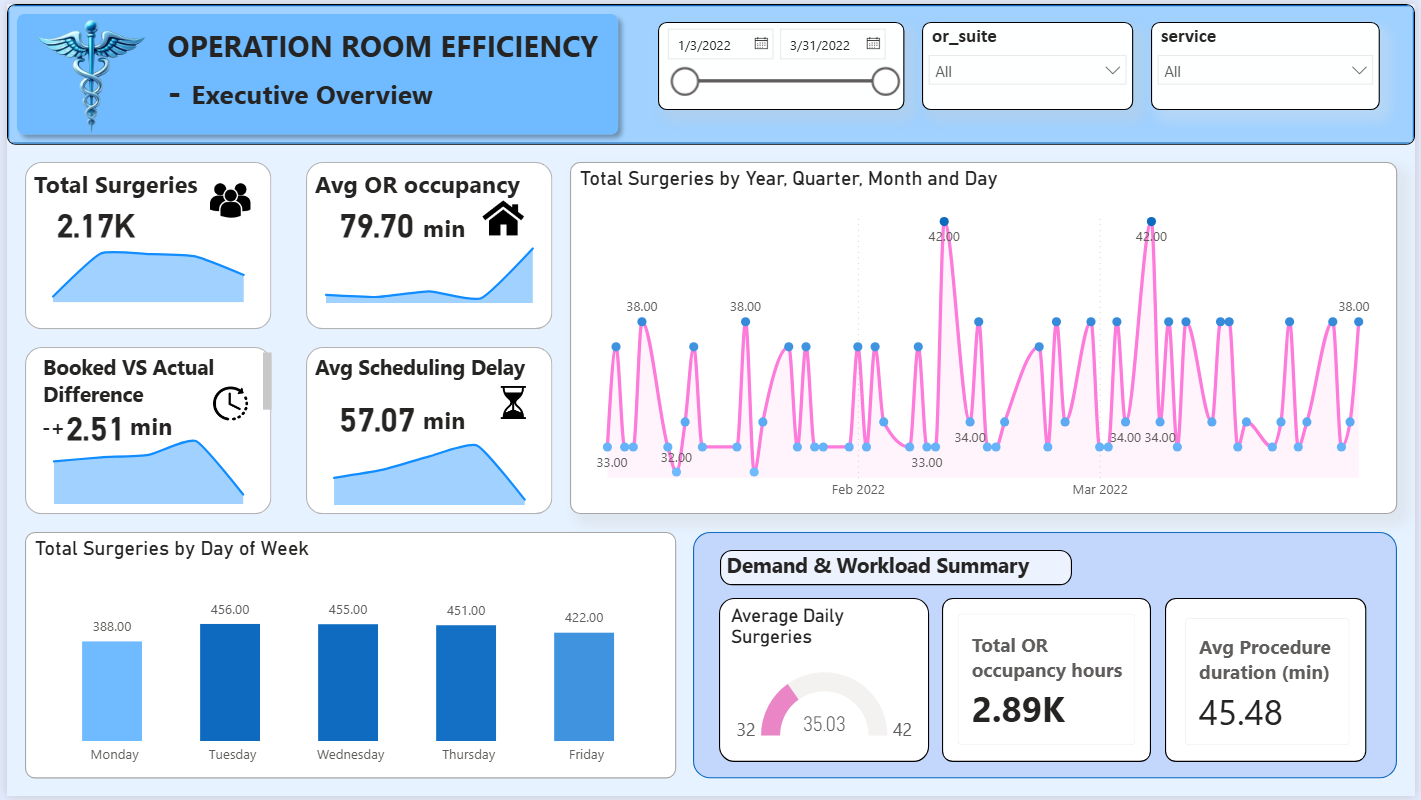

This screenshot's page, from the dashboard's own definition file:
{"tool":"powerbi","page":{"name":"Executive Overview ","canvas":[1280,720],"ordinal":0},"visuals":[{"type":"shape","box":[0,0,1280,128],"z":0,"group":"g9"},{"type":"shape","box":[624,480,640,224],"z":0},{"type":"textbox","box":[648,496,320,32],"z":1000},{"type":"slicer","fields":{"Values":["or_utilization_v2.surgery_date"]},"box":[592,16,224,80],"z":2000,"group":"g9"},{"type":"gauge","title":"Average Daily Surgeries","fields":{"Y":["or_utilization_v2.Average Daily Surgeries"],"MaxValue":["or_utilization_v2.Maximum Daily surgeries"],"MinValue":["or_utilization_v2.Minimum Daily Surgeries"]},"box":[647.1,540,191.4,148.6],"z":2000},{"type":"slicer","fields":{"Values":["or_utilization_v2.or_suite"]},"box":[832,16,192,80],"z":3000,"group":"g9"},{"type":"cardVisual","fields":{"Data":["or_utilization_v2.Total OR occupancy hours"]},"box":[850,540,190,148.6],"z":3000},{"type":"slicer","fields":{"Values":["or_utilization_v2.service"]},"box":[1040,16,208,80],"z":4000,"group":"g9"},{"type":"cardVisual","title":"lklk","fields":{"Data":["or_utilization_v2.Avg Procedure duration (min)"]},"box":[1052.9,540,182.9,148.6],"z":4000},{"type":"shape","box":[0,0,564.6,127.7],"z":5000,"group":"g9"},{"type":"lineChart","fields":{"Y":["or_utilization_v2.Total Surgeries"],"Category":["or_utilization_v2.surgery_date.Variation.Date Hierarchy.Year","or_utilization_v2.surgery_date.Variation.Date Hierarchy.Quarter","or_utilization_v2.surgery_date.Variation.Date Hierarchy.Month","or_utilization_v2.surgery_date.Variation.Date Hierarchy.Day"]},"box":[512,144,752,320],"z":5000},{"type":"clusteredColumnChart","fields":{"Y":["or_utilization_v2.Total Surgeries"],"Category":["or_utilization_v2.Day of Week"]},"box":[16,480,592,224],"z":6000},{"type":"textbox","box":[140.6,8,416,96],"z":6500,"group":"g9"},{"type":"group","id":"g1","title":"Group 5","box":[272,312,224,144],"z":7000},{"type":"group","id":"g2","title":"Group 6","box":[16,144,224,152],"z":8000},{"type":"group","id":"g3","title":"Group 7","box":[272,144,224,152],"z":9000},{"type":"group","id":"g4","title":"Group 8","box":[16,312,224,152],"z":10000},{"type":"group","id":"g5","title":"Group 9","box":[0,0,1280,128],"z":11000},{"type":"group","id":"g6","title":"Group 1","box":[16,144,224,152],"z":11000,"group":"g2"},{"type":"group","id":"g7","title":"Group 1","box":[16,312,224,152],"z":11000,"group":"g4"},{"type":"group","id":"g8","title":"Group 1","box":[272,144,224,152],"z":12000,"group":"g3"},{"type":"textbox","box":[377.8,188.9,52.2,31.1],"z":12000},{"type":"group","id":"g9","title":"Group 4","box":[0,0,1280,128],"z":12001,"group":"g5"},{"type":"image","box":[186.8,343.7,31.7,39.2],"z":13000,"group":"g4"},{"type":"textbox","box":[112.2,368.9,52.2,31.1],"z":13000},{"type":"group","id":"g10","title":"Group 1","box":[272,312,224,144],"z":14000,"group":"g1"},{"type":"textbox","box":[377.8,363.3,52.2,31.1],"z":14000},{"type":"group","id":"g11","title":"Group 3","box":[272,312,224,152],"z":14002,"group":"g10"},{"type":"textbox","box":[32.2,372.2,26.7,31.1],"z":15000},{"type":"shape","box":[16,144,224,152],"z":16000,"group":"g6"},{"type":"shape","box":[272,144,224,152],"z":16000,"group":"g8"},{"type":"image","box":[184.3,159.8,36.7,39.2],"z":16000,"group":"g2"},{"type":"shape","box":[16,312,224,152],"z":16000,"group":"g12"},{"type":"shape","box":[272,312,224,152],"z":16000,"group":"g11"},{"type":"group","id":"g12","title":"Group 2","box":[16,312,224,152],"z":16002,"group":"g7"},{"type":"image","box":[12.6,0,128,128],"z":17000,"group":"g9"},{"type":"image","box":[429.5,175.7,44.2,38.3],"z":17000,"group":"g3"},{"type":"card","fields":{"Values":["or_utilization_v2.Total Surgeries"]},"box":[24,176,112,48],"z":17000,"group":"g6"},{"type":"card","fields":{"Values":["or_utilization_v2.Avg OR Occupancy"]},"box":[280,176,112,48],"z":17000,"group":"g8"},{"type":"card","fields":{"Values":["or_utilization_v2.Avg Scheduling Delay"]},"box":[280,352,112,48],"z":17000,"group":"g11"},{"type":"card","fields":{"Values":["or_utilization_v2.Booked vs Actual Variance"]},"box":[24,360,112,48],"z":17000,"group":"g12"},{"type":"image","box":[437,347.8,45.8,30],"z":17002,"group":"g1"},{"type":"textbox","box":[24,144,176,40],"z":18000,"group":"g6"},{"type":"textbox","box":[280,144,208,48],"z":18000,"group":"g8"},{"type":"textbox","box":[32,312,208,64],"z":18000,"group":"g12"},{"type":"textbox","box":[280,312,208,40],"z":18000,"group":"g11"},{"type":"lineChart","fields":{"Y":["or_utilization_v2.Avg OR Occupancy"],"Category":["or_utilization_v2.Day of Week Number"]},"box":[280,200,208,72],"z":19000,"group":"g8"},{"type":"lineChart","fields":{"Y":["or_utilization_v2.Total Surgeries"],"Category":["or_utilization_v2.Day of Week"]},"box":[24,216,208,56],"z":19000,"group":"g6"},{"type":"lineChart","fields":{"Category":["or_utilization_v2.Day of Week Number"],"Y":["or_utilization_v2.Booked vs Actual Variance"]},"box":[32,384,192,72],"z":19000,"group":"g12"},{"type":"lineChart","fields":{"Y":["or_utilization_v2.Avg Scheduling Delay"],"Category":["or_utilization_v2.Day of Week"]},"box":[280,384,208,72],"z":19000,"group":"g11"}]}

Visuals, with their boxes in screenshot pixels (x1, y1, x2, y2), scaled from the page's 1280x720 canvas onto the 1421x800 screenshot:
shape: {"left": 0, "top": 0, "right": 1420, "bottom": 142}
shape: {"left": 693, "top": 533, "right": 1403, "bottom": 782}
textbox: {"left": 719, "top": 551, "right": 1075, "bottom": 587}
slicer - or_utilization_v2.surgery_date: {"left": 657, "top": 18, "right": 906, "bottom": 107}
"Average Daily Surgeries" gauge: {"left": 718, "top": 600, "right": 931, "bottom": 765}
slicer - or_utilization_v2.or_suite: {"left": 924, "top": 18, "right": 1137, "bottom": 107}
cardVisual - or_utilization_v2.Total OR occupancy hours: {"left": 944, "top": 600, "right": 1155, "bottom": 765}
slicer - or_utilization_v2.service: {"left": 1155, "top": 18, "right": 1385, "bottom": 107}
"lklk" cardVisual: {"left": 1169, "top": 600, "right": 1372, "bottom": 765}
shape: {"left": 0, "top": 0, "right": 627, "bottom": 142}
lineChart - or_utilization_v2.Total Surgeries x or_utilization_v2.surgery_date.Variation.Date Hierarchy.Year: {"left": 568, "top": 160, "right": 1403, "bottom": 516}
clusteredColumnChart - or_utilization_v2.Total Surgeries x or_utilization_v2.Day of Week: {"left": 18, "top": 533, "right": 675, "bottom": 782}
textbox: {"left": 156, "top": 9, "right": 618, "bottom": 116}
"Group 5" group: {"left": 302, "top": 347, "right": 551, "bottom": 507}
"Group 6" group: {"left": 18, "top": 160, "right": 266, "bottom": 329}
"Group 7" group: {"left": 302, "top": 160, "right": 551, "bottom": 329}
"Group 8" group: {"left": 18, "top": 347, "right": 266, "bottom": 516}
"Group 9" group: {"left": 0, "top": 0, "right": 1420, "bottom": 142}
"Group 1" group: {"left": 18, "top": 160, "right": 266, "bottom": 329}
"Group 1" group: {"left": 18, "top": 347, "right": 266, "bottom": 516}
"Group 1" group: {"left": 302, "top": 160, "right": 551, "bottom": 329}
textbox: {"left": 419, "top": 210, "right": 477, "bottom": 244}
"Group 4" group: {"left": 0, "top": 0, "right": 1420, "bottom": 142}
image: {"left": 207, "top": 382, "right": 243, "bottom": 425}
textbox: {"left": 125, "top": 410, "right": 183, "bottom": 444}
"Group 1" group: {"left": 302, "top": 347, "right": 551, "bottom": 507}
textbox: {"left": 419, "top": 404, "right": 477, "bottom": 438}
"Group 3" group: {"left": 302, "top": 347, "right": 551, "bottom": 516}
textbox: {"left": 36, "top": 414, "right": 65, "bottom": 448}
shape: {"left": 18, "top": 160, "right": 266, "bottom": 329}
shape: {"left": 302, "top": 160, "right": 551, "bottom": 329}
image: {"left": 205, "top": 178, "right": 245, "bottom": 221}
shape: {"left": 18, "top": 347, "right": 266, "bottom": 516}
shape: {"left": 302, "top": 347, "right": 551, "bottom": 516}
"Group 2" group: {"left": 18, "top": 347, "right": 266, "bottom": 516}
image: {"left": 14, "top": 0, "right": 156, "bottom": 142}
image: {"left": 477, "top": 195, "right": 526, "bottom": 238}
card - or_utilization_v2.Total Surgeries: {"left": 27, "top": 196, "right": 151, "bottom": 249}
card - or_utilization_v2.Avg OR Occupancy: {"left": 311, "top": 196, "right": 435, "bottom": 249}
card - or_utilization_v2.Avg Scheduling Delay: {"left": 311, "top": 391, "right": 435, "bottom": 444}
card - or_utilization_v2.Booked vs Actual Variance: {"left": 27, "top": 400, "right": 151, "bottom": 453}
image: {"left": 485, "top": 386, "right": 536, "bottom": 420}
textbox: {"left": 27, "top": 160, "right": 222, "bottom": 204}
textbox: {"left": 311, "top": 160, "right": 542, "bottom": 213}
textbox: {"left": 36, "top": 347, "right": 266, "bottom": 418}
textbox: {"left": 311, "top": 347, "right": 542, "bottom": 391}
lineChart - or_utilization_v2.Avg OR Occupancy x or_utilization_v2.Day of Week Number: {"left": 311, "top": 222, "right": 542, "bottom": 302}
lineChart - or_utilization_v2.Total Surgeries x or_utilization_v2.Day of Week: {"left": 27, "top": 240, "right": 258, "bottom": 302}
lineChart - or_utilization_v2.Day of Week Number x or_utilization_v2.Booked vs Actual Variance: {"left": 36, "top": 427, "right": 249, "bottom": 507}
lineChart - or_utilization_v2.Avg Scheduling Delay x or_utilization_v2.Day of Week: {"left": 311, "top": 427, "right": 542, "bottom": 507}
